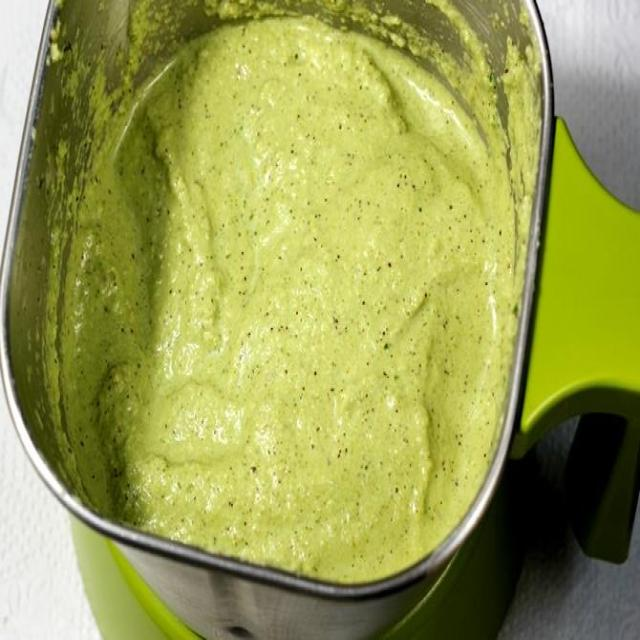puthina chutney: (31, 0, 507, 584)
